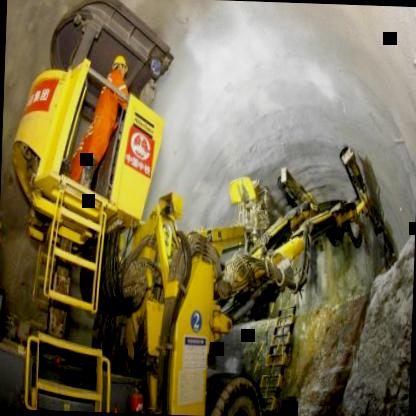helmet: (110, 52, 131, 82)
